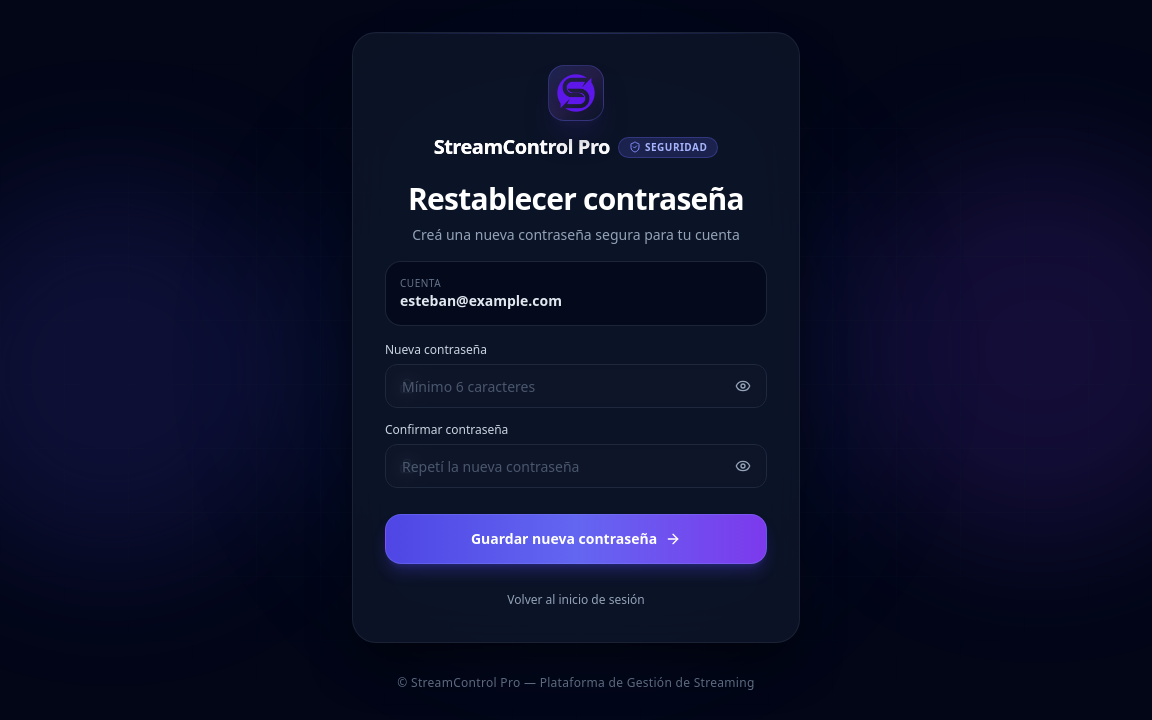
Test: ResetPassword Page Component › shows password requirements checklist and password match indicator
The image size is (1152, 720).
Type "pass123" into the password field with placeholder "Mínimo 6 caracteres".
click(576, 386); type("pass123")  # box [385,364,767,408]
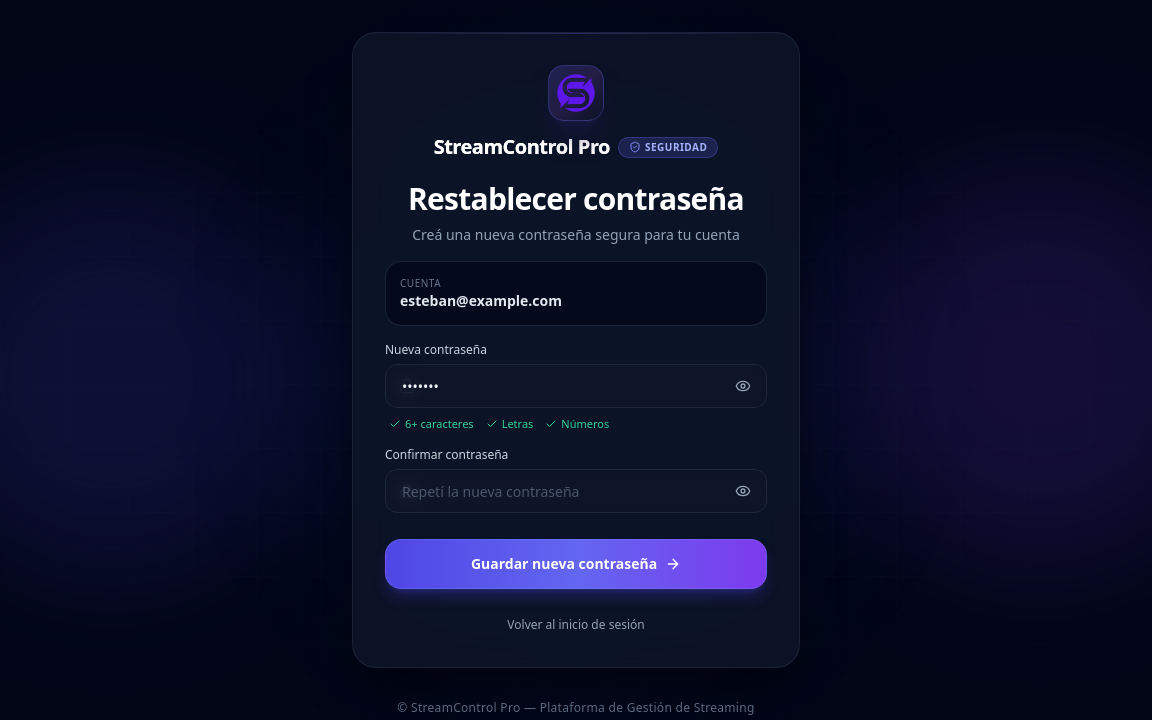
Now the text "6+ caracteres" is shown, box [389,416,474,432]
Now the text "Letras" is shown, box [486,416,533,432]
Now the text "Números" is shown, box [545,416,609,432]
Type "mismatch" into the password field with placeholder "Repetí la nueva contraseña".
click(576, 490); type("mismatch")  # box [385,468,767,512]
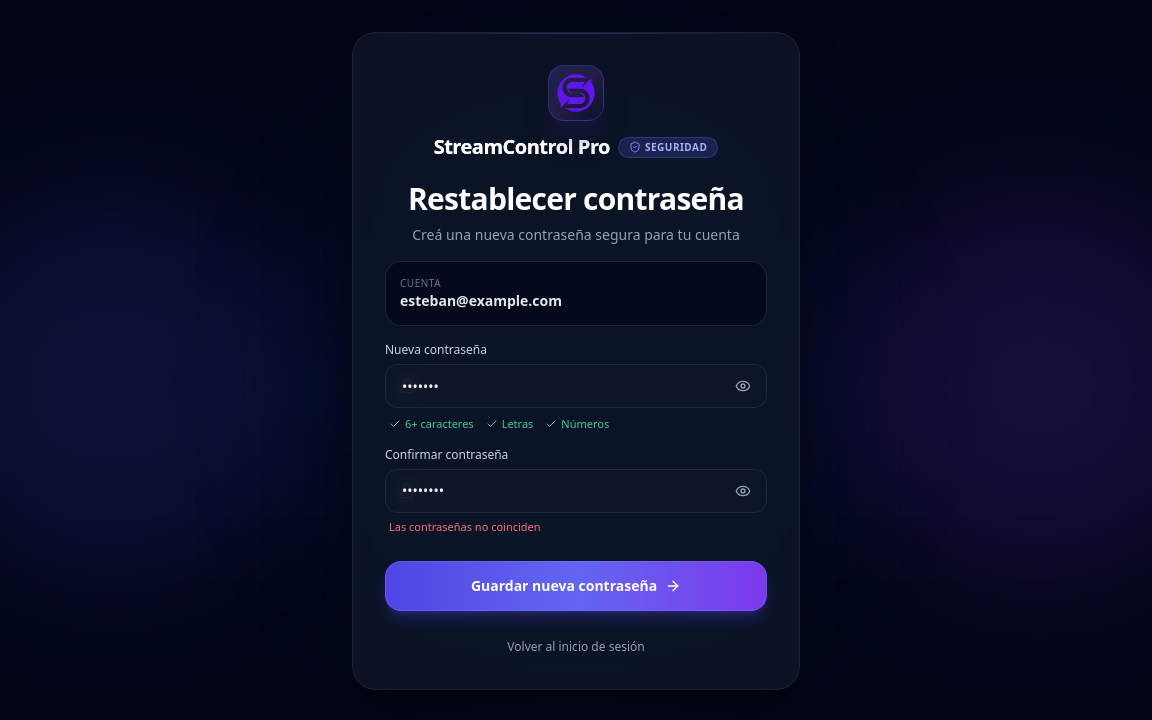
Now the text "Las contraseñas no coinciden" is shown, box [389,518,541,534]
Type "pass123" into the password field with placeholder "Repetí la nueva contraseña" below "Confirmar contraseña".
click(576, 490); type("pass123")  # box [385,468,767,512]
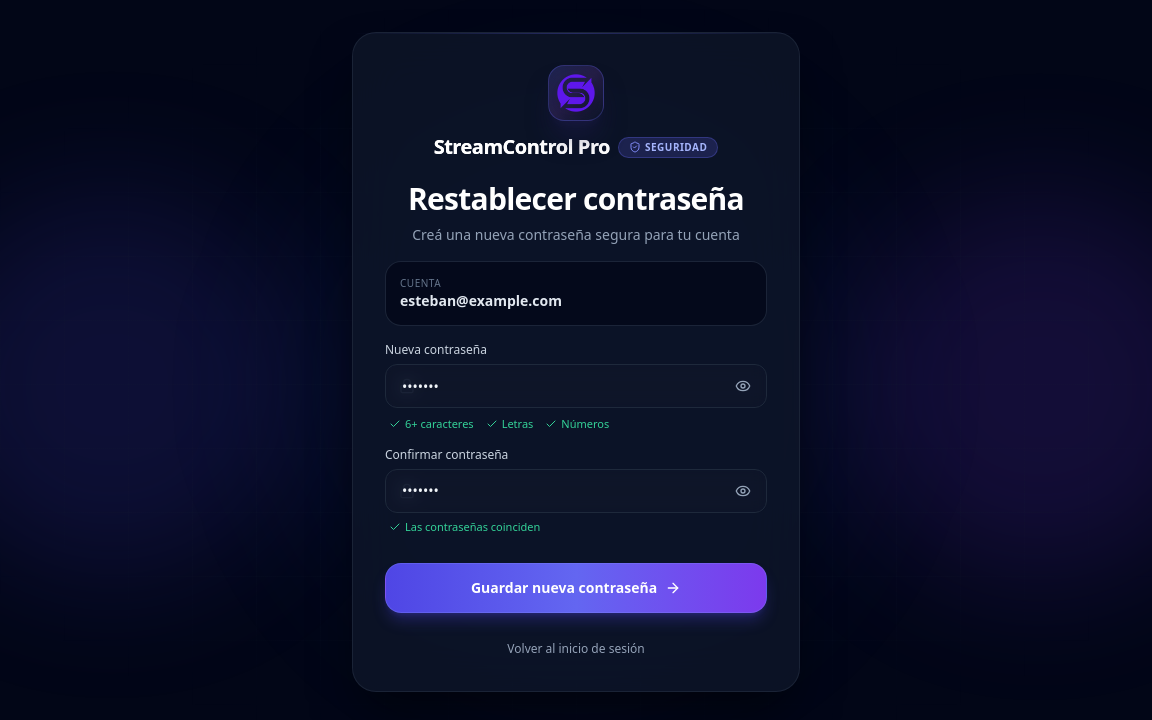
Now the text "Las contraseñas coinciden" is shown, box [389,518,540,535]
